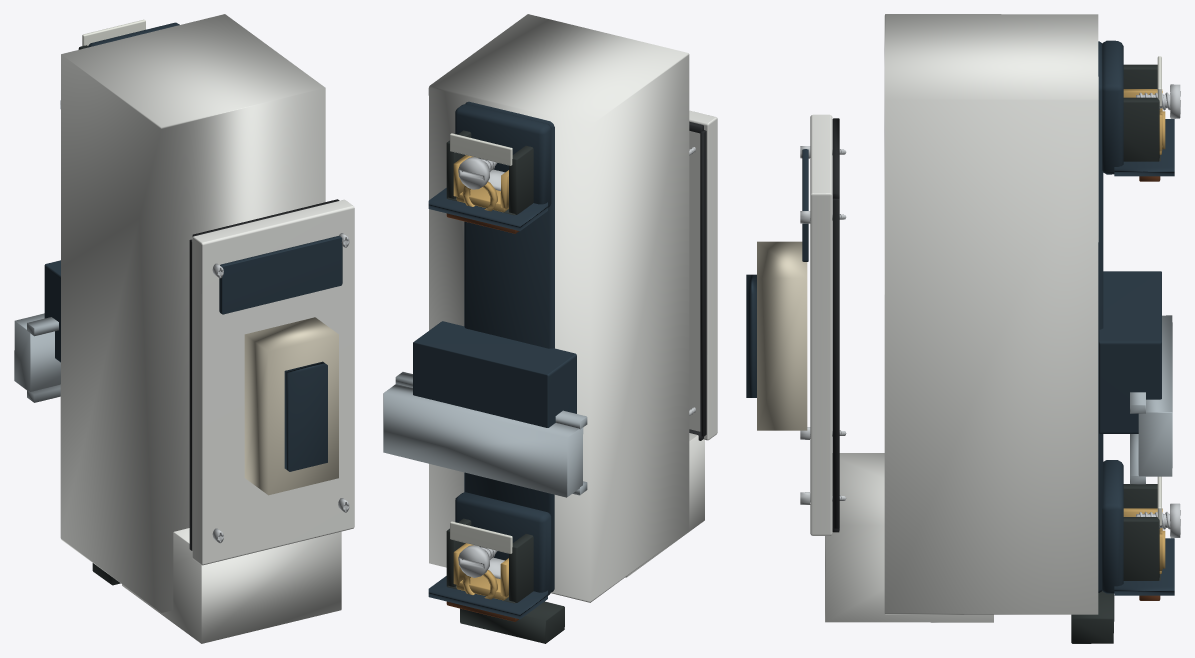
The model's file is fuse_default.low.glb.
3 views of the same model, side by side, from view 1: azimuth 30°, elevation 25°; view 2: azimuth 150°, elevation 25°; view 3: azimuth 270°, elevation 25° (orthographic). The views are drawn at different scales.
Visible parts, largest first — view 1: part:body · Original 7dbee62c, part:cover, part:fuse, part:mounting · Original 2a8198d3, detail:enclosure-gasket-and-fixings · Detail rubber gasket, part:body, Moulded terminal legend pad, detail:enclosure-gasket-and-fixings · Detail zinc plated fix; view 2: part:body · Original 7dbee62c, part:terminals · Original a463fd81, part:mounting · Original 2a8198d3, part:body, part:cover, DIN spring slider, detail:enclosure-gasket-and-fixings · Detail rubber gasket, detail:terminal-clamp:OUT · Detail moulded engineering polym, detail:terminal-clamp:IN · Detail moulded engineering polyme, detail:terminal-clamp:OUT · Detail machined brass, detail:terminal-clamp:IN · Detail machined brass, Moulded terminal legend pad (+3 smaller); view 3: part:body · Original 7dbee62c, part:fuse, part:terminals · Original a463fd81, part:cover, part:body, part:mounting · Original 2a8198d3, detail:enclosure-gasket-and-fixings · Detail rubber gasket, detail:terminal-clamp:IN · Detail moulded engineering polyme, detail:terminal-clamp:OUT · Detail moulded engineering polym, DIN spring slider, detail:enclosure-gasket-and-fixings · Detail zinc plated fix, detail:terminal-clamp:IN · Detail zinc plated fixing (+1 smaller).
Boxes of the visible parts, left/top/right/bottom form: part:body · Original 7dbee62c: left=60, top=14, right=341, bottom=643; part:cover: left=192, top=199, right=354, bottom=565; part:fuse: left=244, top=317, right=338, bottom=495; part:mounting · Original 2a8198d3: left=14, top=313, right=60, bottom=402; detail:enclosure-gasket-and-fixings · Detail rubber gasket: left=189, top=199, right=339, bottom=550; part:body: left=44, top=260, right=60, bottom=362; Moulded terminal legend pad: left=82, top=19, right=145, bottom=45; detail:enclosure-gasket-and-fixings · Detail zinc plated fix: left=212, top=233, right=349, bottom=543; part:body · Original 7dbee62c: left=428, top=14, right=704, bottom=602; part:terminals · Original a463fd81: left=428, top=101, right=554, bottom=619; part:mounting · Original 2a8198d3: left=383, top=372, right=587, bottom=497; part:body: left=413, top=321, right=576, bottom=427; part:cover: left=689, top=110, right=717, bottom=440; DIN spring slider: left=460, top=601, right=564, bottom=643; detail:enclosure-gasket-and-fixings · Detail rubber gasket: left=689, top=121, right=706, bottom=440; detail:terminal-clamp:OUT · Detail moulded engineering polym: left=446, top=518, right=533, bottom=603; detail:terminal-clamp:IN · Detail moulded engineering polyme: left=446, top=130, right=533, bottom=215; detail:terminal-clamp:OUT · Detail machined brass: left=453, top=543, right=508, bottom=600; detail:terminal-clamp:IN · Detail machined brass: left=453, top=155, right=508, bottom=212; Moulded terminal legend pad: left=450, top=133, right=512, bottom=165; part:body · Original 7dbee62c: left=825, top=14, right=1098, bottom=622; part:fuse: left=746, top=241, right=807, bottom=430; part:terminals · Original a463fd81: left=1098, top=40, right=1174, bottom=595; part:cover: left=802, top=114, right=832, bottom=535; part:body: left=1099, top=271, right=1161, bottom=433; part:mounting · Original 2a8198d3: left=1130, top=315, right=1172, bottom=484; detail:enclosure-gasket-and-fixings · Detail rubber gasket: left=832, top=118, right=839, bottom=532; detail:terminal-clamp:IN · Detail moulded engineering polyme: left=1123, top=64, right=1160, bottom=161; detail:terminal-clamp:OUT · Detail moulded engineering polym: left=1123, top=484, right=1160, bottom=580; DIN spring slider: left=1071, top=591, right=1114, bottom=643; detail:enclosure-gasket-and-fixings · Detail zinc plated fix: left=800, top=146, right=846, bottom=504; detail:terminal-clamp:IN · Detail zinc plated fixing: left=1136, top=84, right=1180, bottom=118.
Size of the model in its own units: 0.3438 by 0.9306 by 0.6483.
